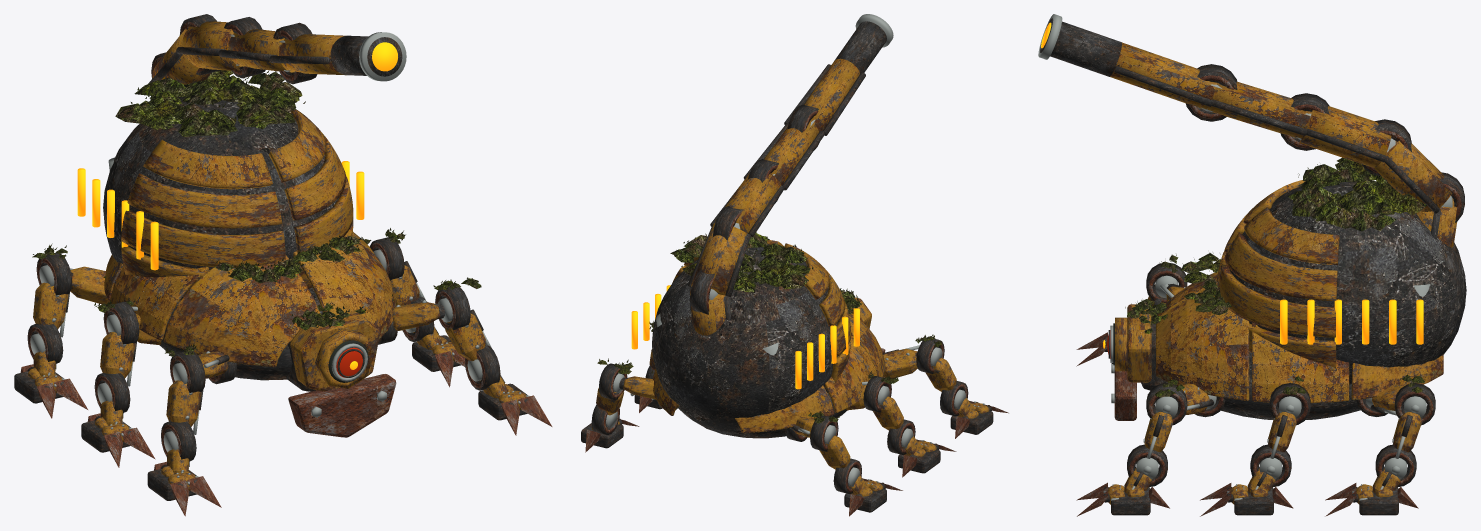
Rendered from slag-beetle.glb.
3 renders of one model, left to right at view 1: azimuth 30°, elevation 25°; view 2: azimuth 150°, elevation 25°; view 3: azimuth 270°, elevation 25°, orthographic. The views are drawn at different scales.
Visible parts, largest first — view 1: Carapace_Mesh, Mortar_tail_Mesh, Front_head_Mesh, Beetle_-1_0_segment_1_Mesh, Beetle_1_2_segment_1_Mesh, Beetle_-1_1_segment_1_Mesh, Beetle_-1_2_segment_1_Mesh, Beetle_1_1_segment_1_Mesh, Beetle_-1_0_foot_Mesh, Beetle_-1_1_foot_Mesh, Beetle_-1_2_foot_Mesh, Beetle_1_2_foot_Mesh (+10 smaller); view 2: Carapace_Mesh, Mortar_tail_Mesh, Beetle_-1_1_segment_1_Mesh, Beetle_-1_0_segment_1_Mesh, Beetle_-1_2_segment_1_Mesh, Beetle_1_0_segment_1_Mesh, Beetle_-1_2_foot_Mesh, Beetle_-1_1_foot_Mesh, Beetle_-1_0_foot_Mesh, Beetle_-1_2_segment_0_Mesh, Beetle_-1_1_segment_2_Mesh, Beetle_-1_0_segment_2_Mesh (+5 smaller); view 3: Carapace_Mesh, Mortar_tail_Mesh, Front_head_Mesh, Beetle_1_0_segment_1_Mesh, Beetle_1_2_segment_1_Mesh, Beetle_1_1_segment_1_Mesh, Beetle_1_2_foot_Mesh, Beetle_1_0_foot_Mesh, Beetle_1_1_foot_Mesh, Chassis_Mesh, Beetle_1_1_segment_2_Mesh, Beetle_1_0_segment_2_Mesh (+4 smaller).
Boxes of the visible parts, x1,y1,x2,y2 form: Carapace_Mesh: [77, 70, 395, 367]; Mortar_tail_Mesh: [148, 14, 406, 99]; Front_head_Mesh: [286, 303, 396, 437]; Beetle_-1_0_segment_1_Mesh: [32, 243, 72, 337]; Beetle_1_2_segment_1_Mesh: [433, 277, 491, 361]; Beetle_-1_1_segment_1_Mesh: [94, 297, 139, 386]; Beetle_-1_2_segment_1_Mesh: [165, 344, 205, 434]; Beetle_1_1_segment_1_Mesh: [362, 228, 425, 306]; Beetle_-1_0_foot_Mesh: [14, 364, 87, 418]; Beetle_-1_1_foot_Mesh: [81, 413, 155, 467]; Beetle_-1_2_foot_Mesh: [147, 461, 221, 516]; Beetle_1_2_foot_Mesh: [478, 383, 552, 435]; Carapace_Mesh: [631, 232, 884, 435]; Mortar_tail_Mesh: [687, 14, 893, 335]; Beetle_-1_1_segment_1_Mesh: [863, 371, 903, 430]; Beetle_-1_0_segment_1_Mesh: [810, 411, 850, 469]; Beetle_-1_2_segment_1_Mesh: [915, 334, 956, 391]; Beetle_1_0_segment_1_Mesh: [596, 358, 633, 415]; Beetle_-1_2_foot_Mesh: [950, 401, 1008, 438]; Beetle_-1_1_foot_Mesh: [898, 439, 956, 477]; Beetle_-1_0_foot_Mesh: [844, 478, 902, 516]; Beetle_-1_2_segment_0_Mesh: [882, 345, 919, 379]; Beetle_-1_1_segment_2_Mesh: [887, 419, 921, 455]; Beetle_-1_0_segment_2_Mesh: [833, 458, 868, 494]; Carapace_Mesh: [1156, 157, 1466, 403]; Mortar_tail_Mesh: [1038, 14, 1464, 247]; Front_head_Mesh: [1103, 298, 1167, 420]; Beetle_1_0_segment_1_Mesh: [1392, 374, 1435, 458]; Beetle_1_2_segment_1_Mesh: [1143, 377, 1187, 458]; Beetle_1_1_segment_1_Mesh: [1267, 375, 1310, 458]; Beetle_1_2_foot_Mesh: [1076, 482, 1169, 516]; Beetle_1_0_foot_Mesh: [1325, 483, 1418, 516]; Beetle_1_1_foot_Mesh: [1200, 483, 1293, 516]; Chassis_Mesh: [1216, 352, 1365, 419]; Beetle_1_1_segment_2_Mesh: [1247, 444, 1291, 493]; Beetle_1_0_segment_2_Mesh: [1372, 444, 1416, 493].
Bounding box in the file's own units: 2.47 × 2.87 × 2.67.
9 materials, 4 textured.
